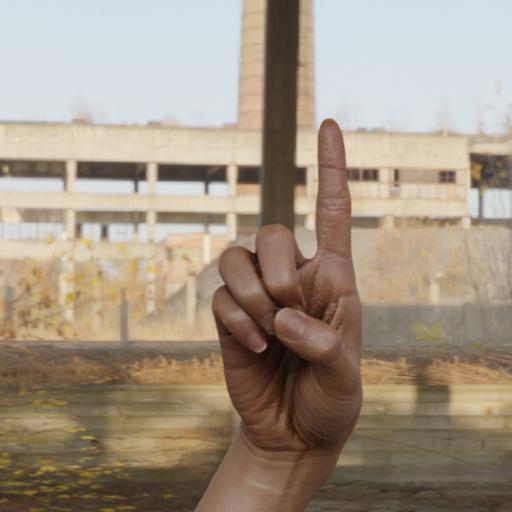D: (206, 119, 376, 449)
